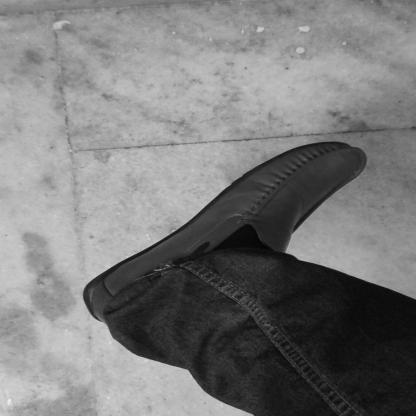ankle: (160, 266, 166, 271)
heel: (92, 303, 97, 306)
pinky: (354, 171, 358, 176)
right_foot: (85, 143, 368, 328)
toe: (334, 148, 341, 154)
